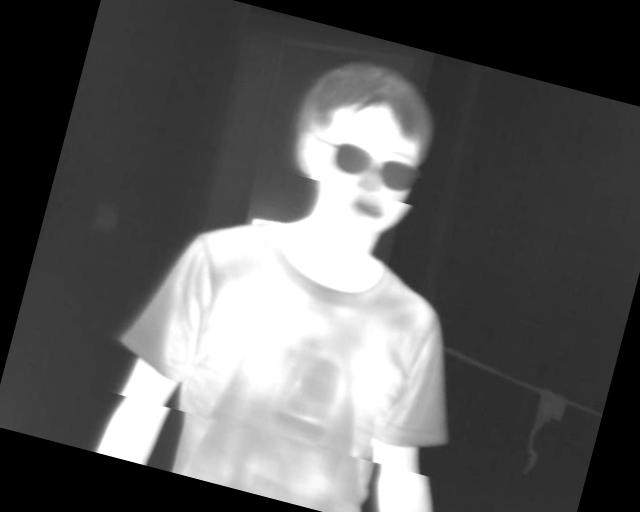face: (271, 45, 451, 248)
